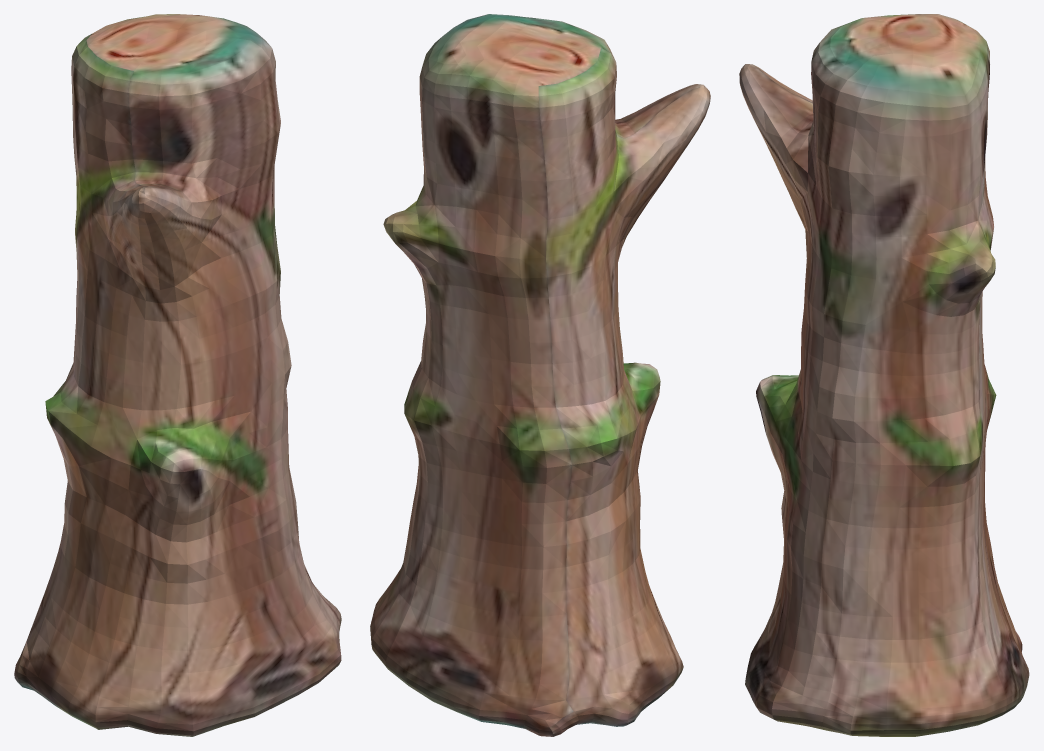
Rendered from tree-2.obj.
3 views of the same model, side by side, from view 1: azimuth 30°, elevation 25°; view 2: azimuth 150°, elevation 25°; view 3: azimuth 270°, elevation 25° (orthographic). The views are drawn at different scales.
Parts seen in each view (by area): view 1: Group47399; view 2: Group47399; view 3: Group47399.
Part boxes in pixels (box(x1,y1,x2,y2)): Group47399: box(14, 14, 341, 736); Group47399: box(370, 14, 710, 736); Group47399: box(739, 14, 1029, 736).
Size of the model in its own units: 0.5378 by 1.19 by 0.4721.
